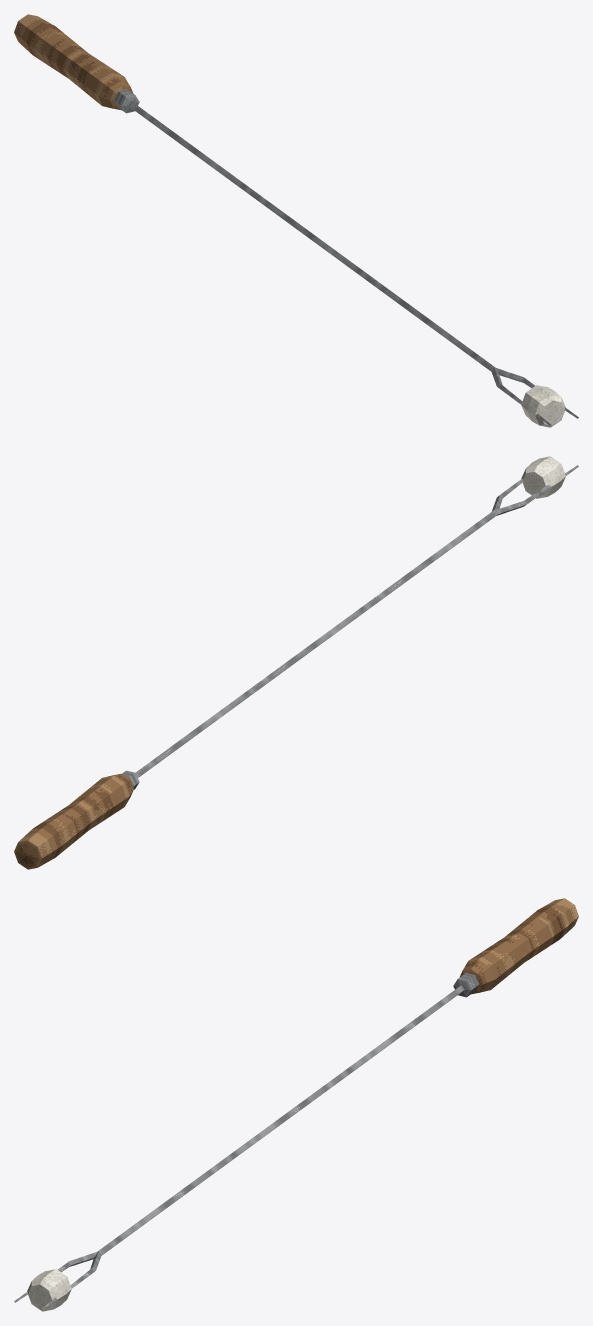
The model's file is PROP_Marshmallow_Stick_01.fbx.
3 renders of one model, top to bottom at view 1: azimuth 30°, elevation 25°; view 2: azimuth 150°, elevation 25°; view 3: azimuth 330°, elevation 25°, orthographic.
Parts seen in each view (by area): view 1: PROP_Marshmallow_Stick_01; view 2: PROP_Marshmallow_Stick_01; view 3: PROP_Marshmallow_Stick_01.
Boxes of the visible parts, x1,y1,x2,y2 form: PROP_Marshmallow_Stick_01: (14, 14, 578, 427); PROP_Marshmallow_Stick_01: (14, 456, 578, 869); PROP_Marshmallow_Stick_01: (14, 898, 578, 1311).
Bounding box in the file's own units: 0.033 × 0.033 × 0.93.
Materials: 3 (3 with a texture image).
